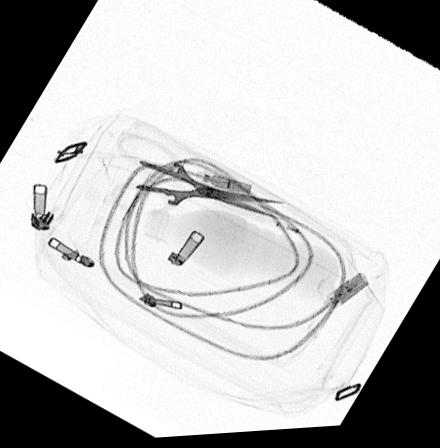Scissors: (107, 130, 291, 226)
